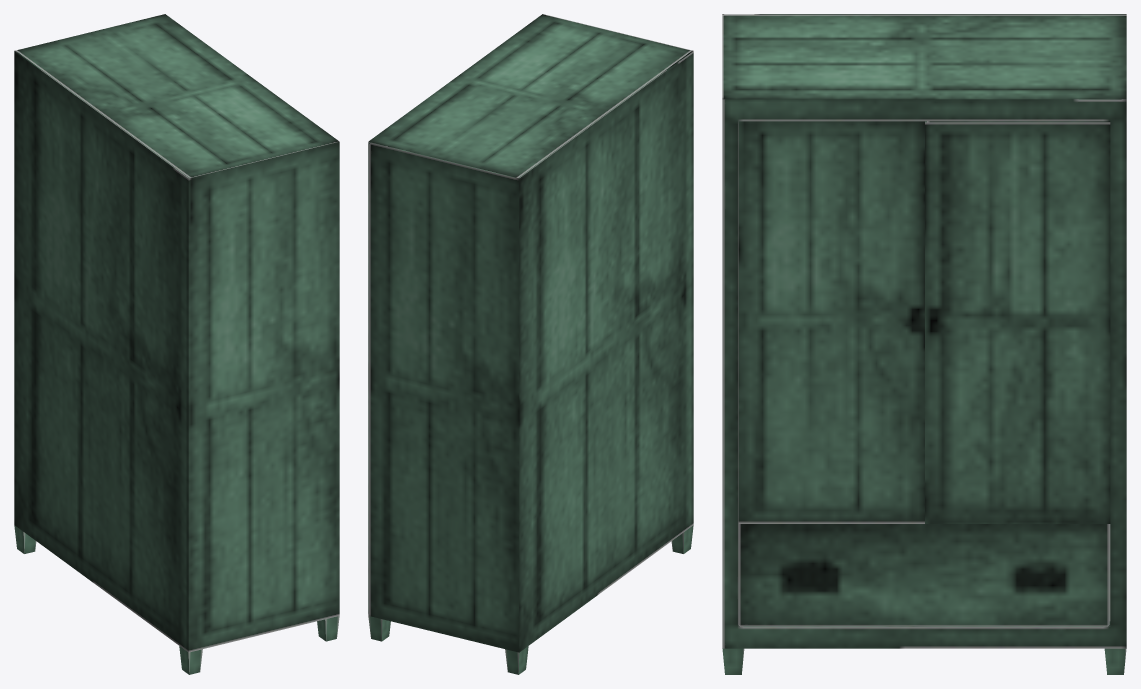
The model's file is Green Wooden Wardrobe-2.fbx.
3 renders of one model, left to right at view 1: azimuth 30°, elevation 25°; view 2: azimuth 150°, elevation 25°; view 3: azimuth 270°, elevation 25°, orthographic. The views are drawn at different scales.
Parts seen in each view (by area): view 1: Green Wooden Wardrobe-2; view 2: Green Wooden Wardrobe-2; view 3: Green Wooden Wardrobe-2.
Part boxes in pixels (x1=…): Green Wooden Wardrobe-2: x1=14, y1=14, x2=339, y2=674; Green Wooden Wardrobe-2: x1=368, y1=14, x2=693, y2=674; Green Wooden Wardrobe-2: x1=722, y1=14, x2=1126, y2=674.
Bounding box in the file's own units: 100 × 315 × 200.
